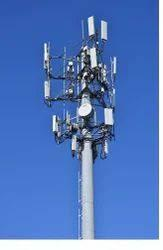Microwave Antenna: (75, 104, 95, 123)
antenna: (38, 41, 49, 71), (99, 15, 109, 45), (101, 106, 113, 131), (85, 15, 95, 40), (50, 114, 60, 135), (44, 77, 52, 103)
